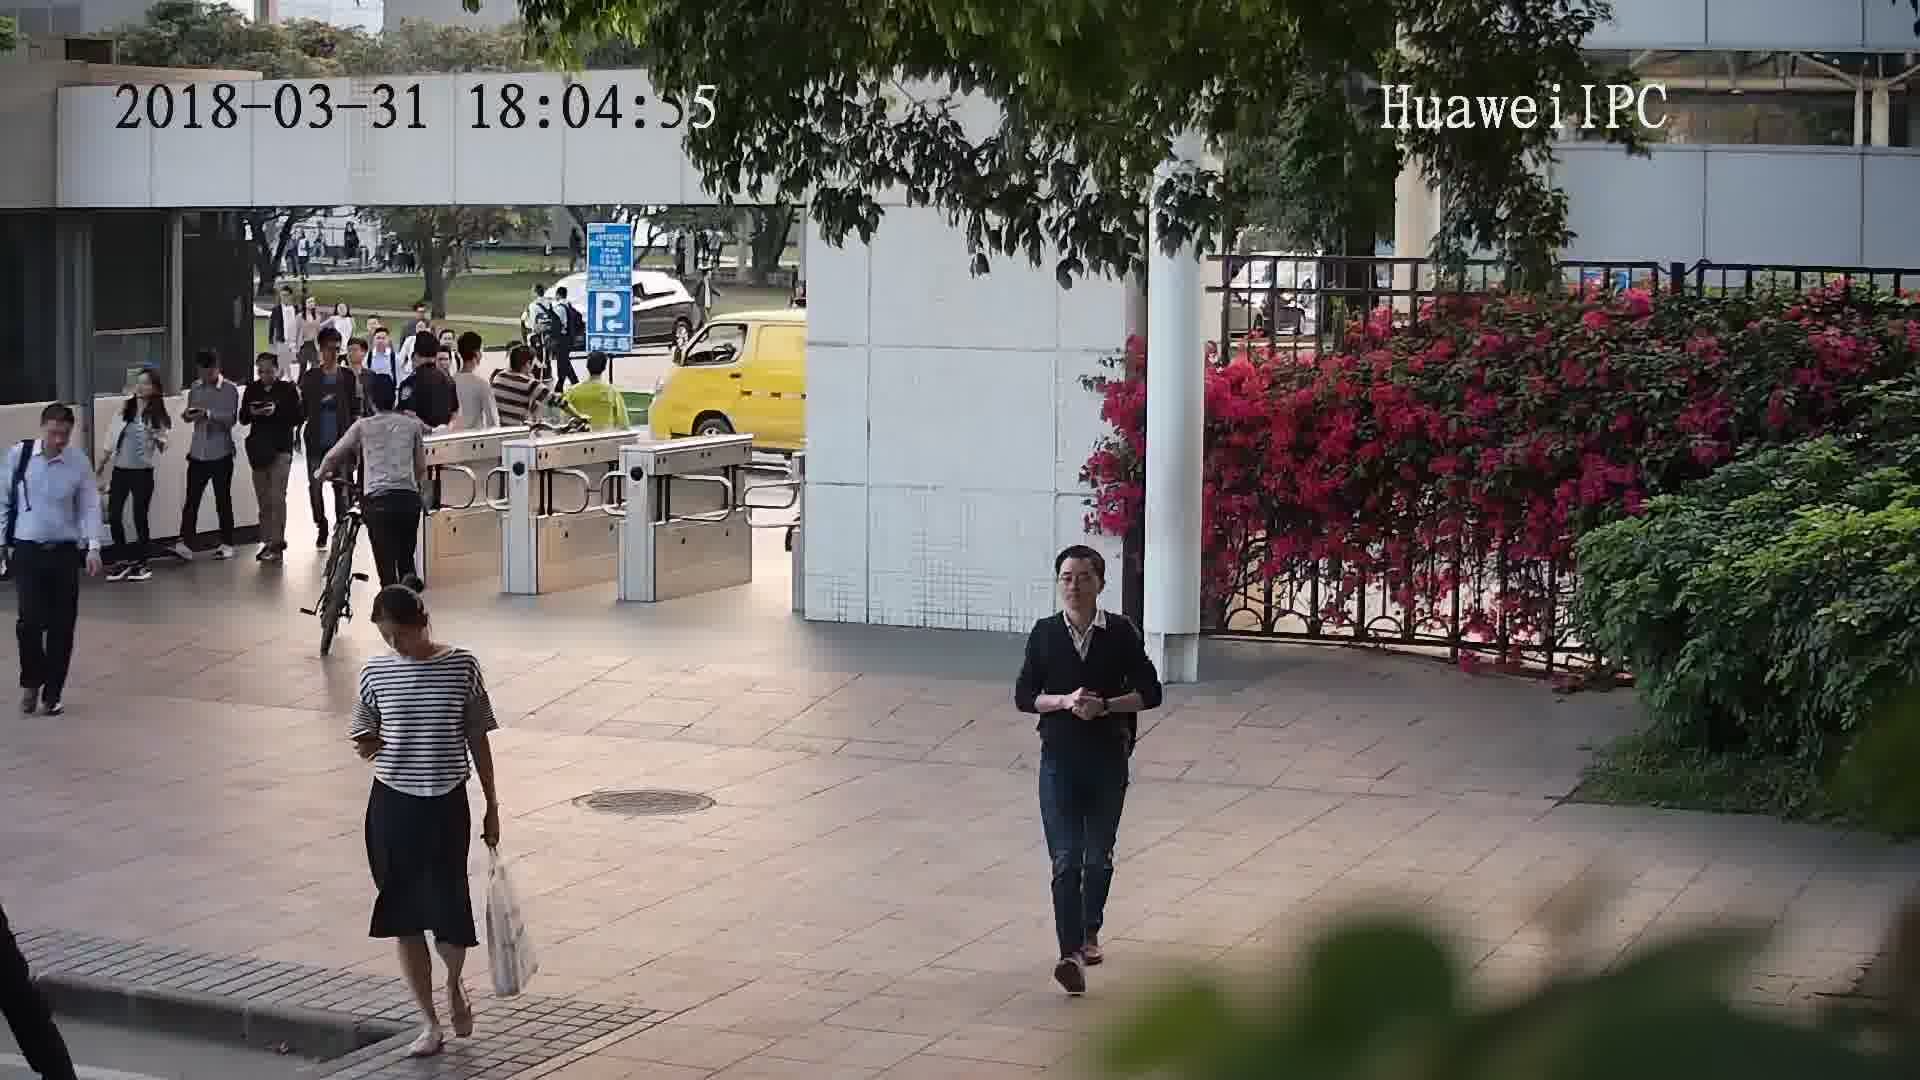face: (1052, 555, 1107, 610), (371, 616, 425, 659), (35, 416, 73, 463)
person: (1022, 540, 1141, 662), (361, 581, 483, 695), (12, 399, 95, 480), (357, 376, 419, 436), (186, 347, 240, 404), (121, 362, 175, 418), (246, 348, 300, 403), (302, 331, 349, 387), (406, 333, 452, 389), (448, 329, 491, 388), (340, 332, 381, 387), (573, 348, 620, 395), (497, 341, 541, 387), (365, 320, 404, 368), (341, 338, 377, 377), (325, 296, 360, 334), (271, 281, 299, 319), (403, 302, 436, 332), (543, 281, 574, 313), (292, 293, 321, 326), (526, 280, 553, 310)
